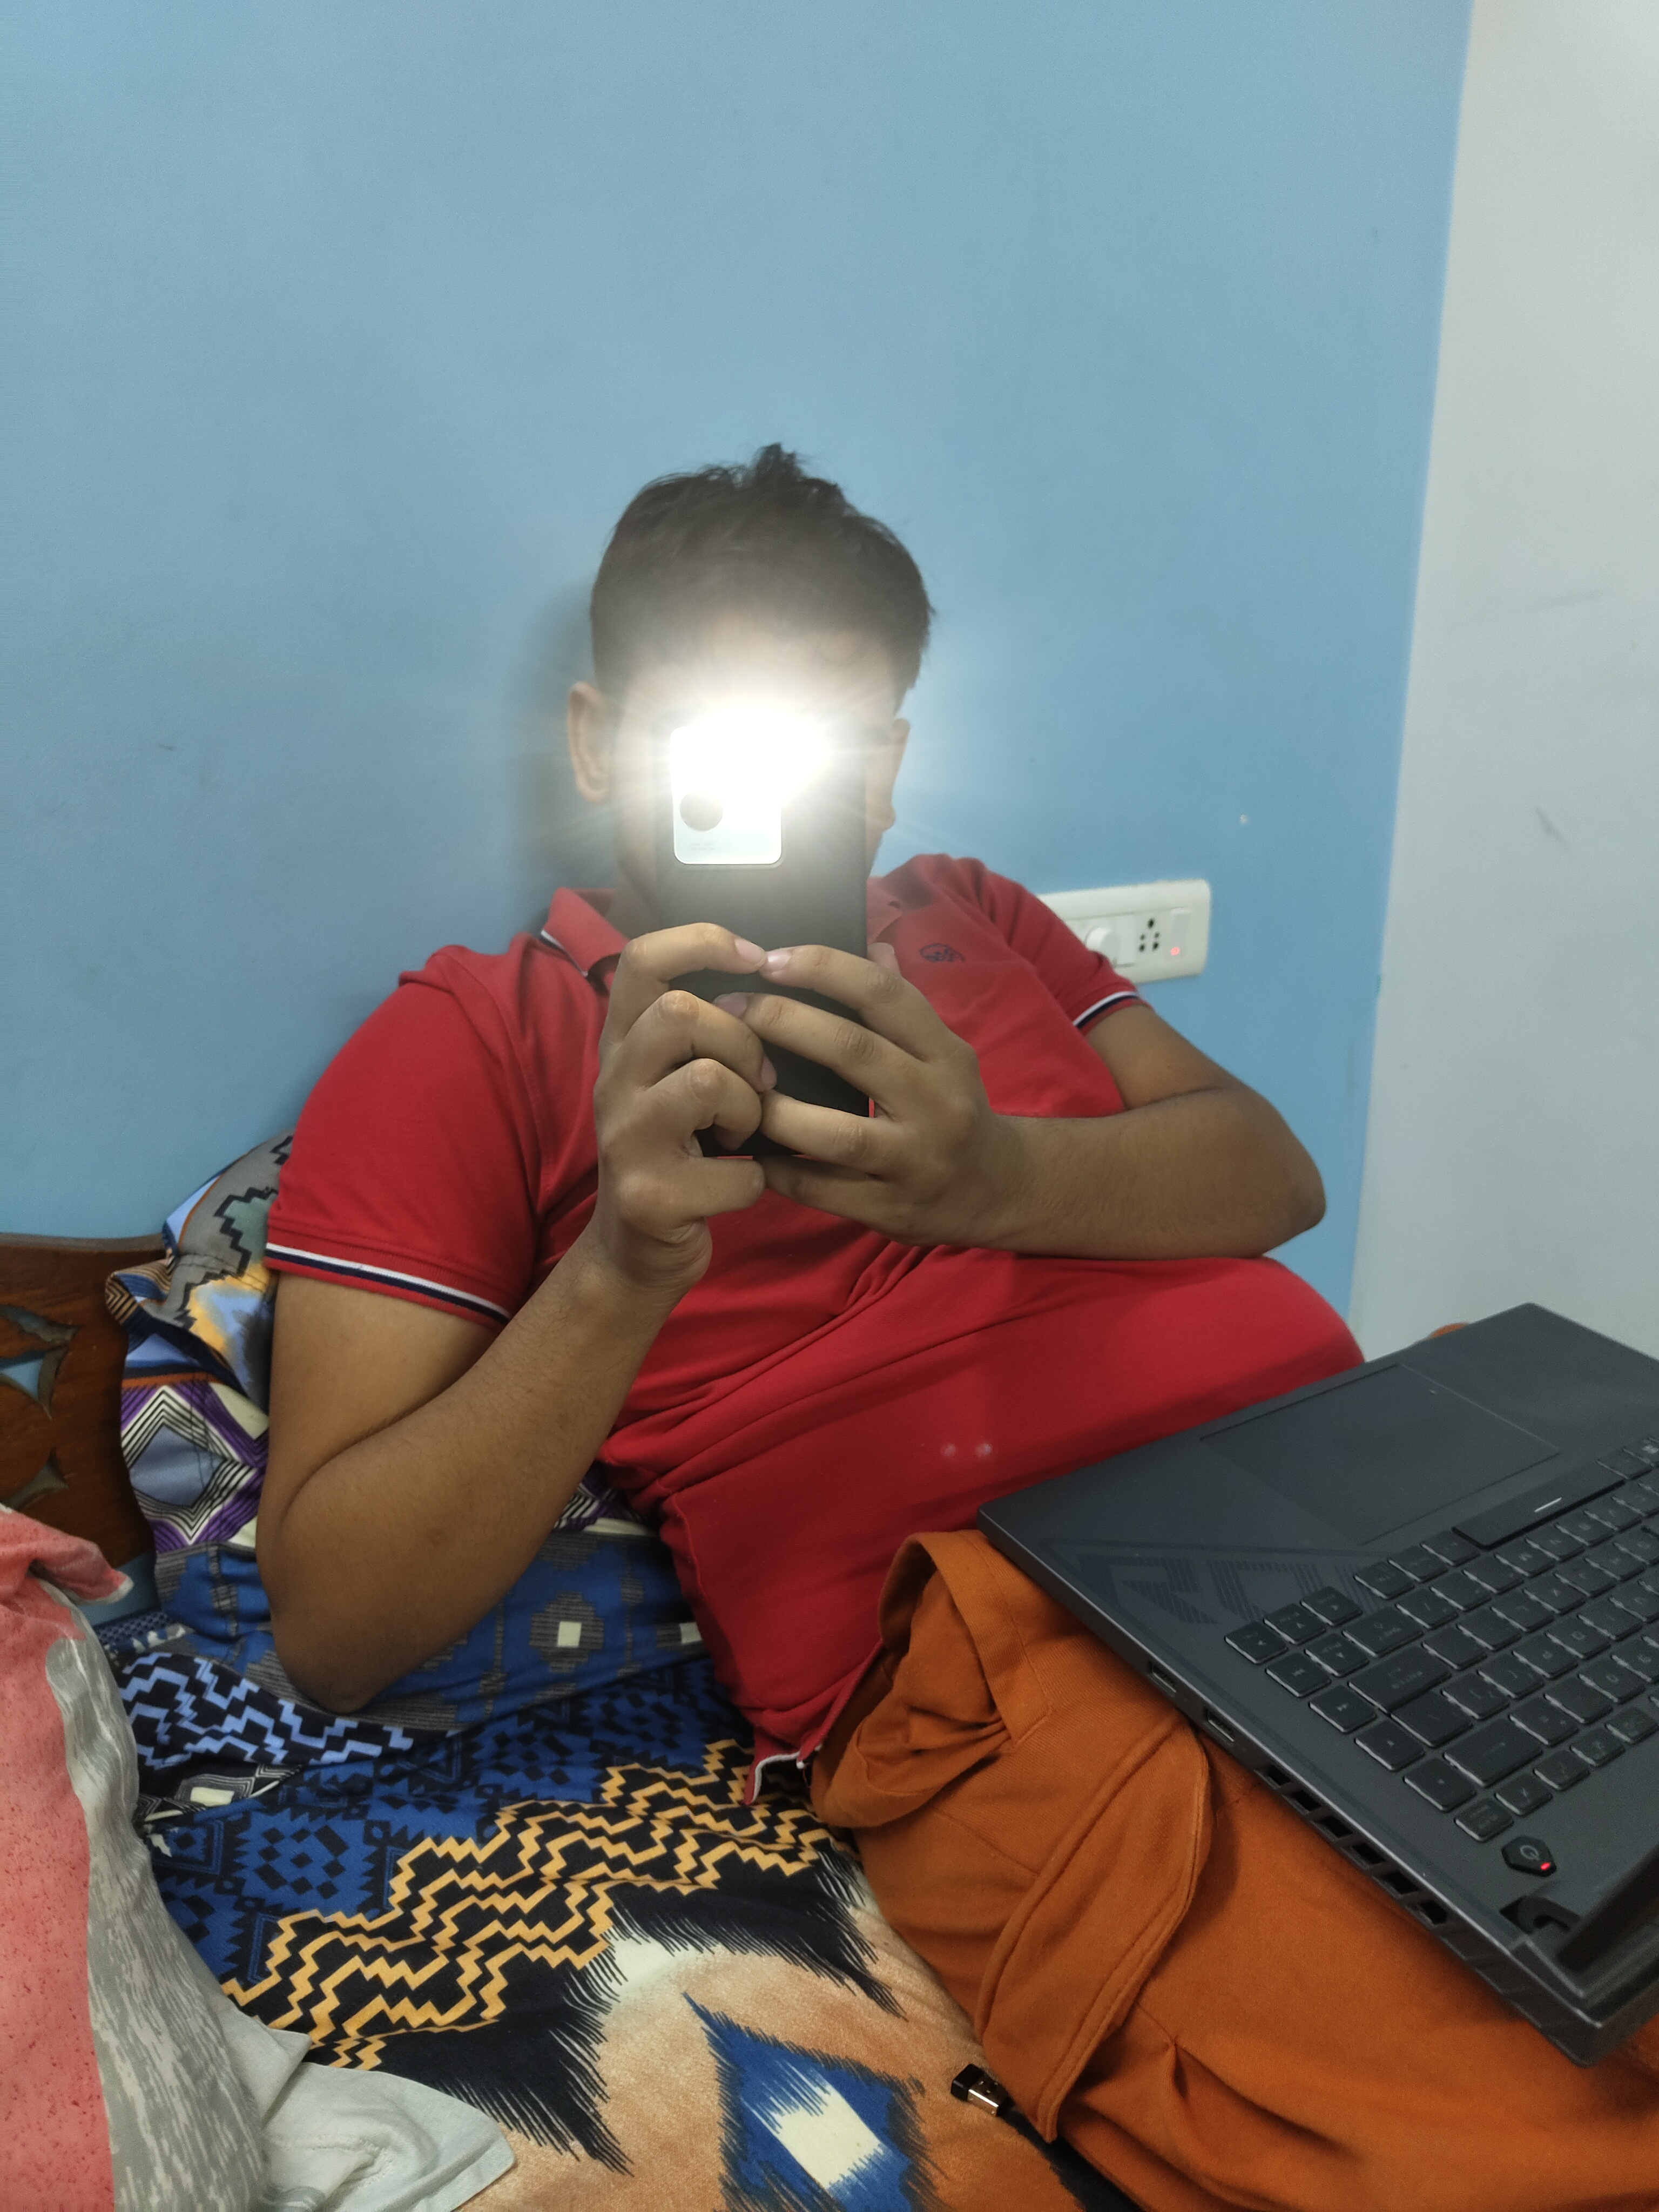Glare: (657, 718, 831, 808)
